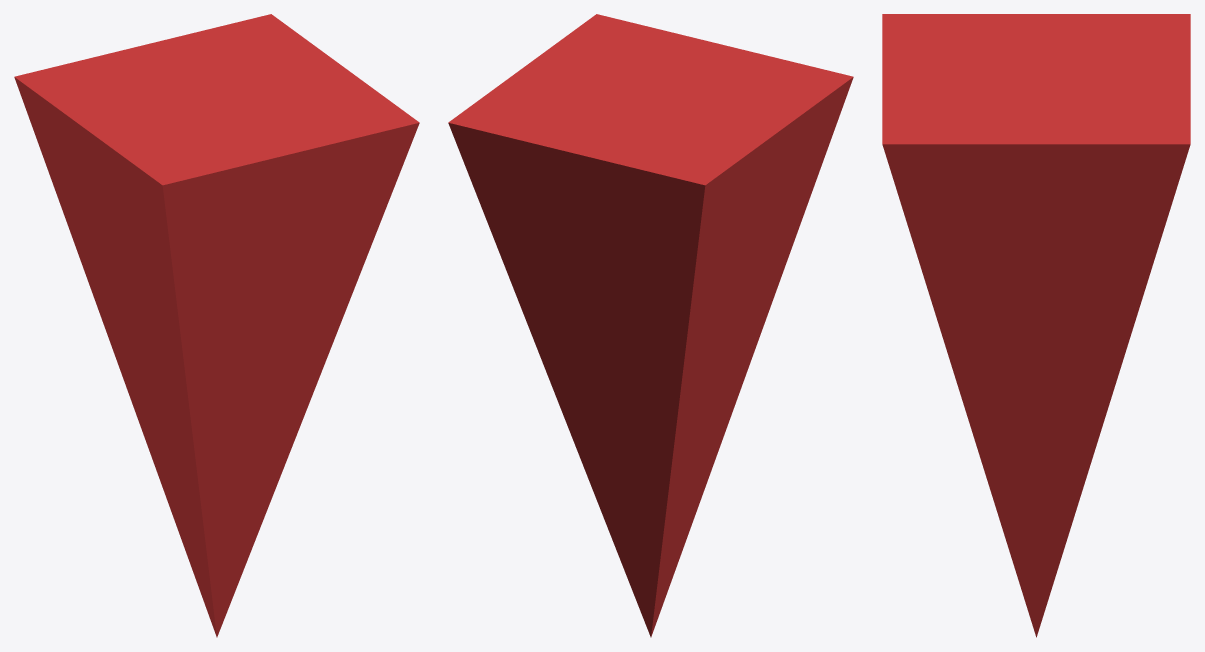
The model's file is blip.glb.
3 views of the same model, side by side, from view 1: azimuth 30°, elevation 25°; view 2: azimuth 150°, elevation 25°; view 3: azimuth 270°, elevation 25° (orthographic). The views are drawn at different scales.
Visible parts, largest first — view 1: pyramid; view 2: pyramid; view 3: pyramid.
Boxes of the visible parts, <box> form: pyramid: <box>14,14,419,637</box>; pyramid: <box>448,14,853,637</box>; pyramid: <box>882,14,1190,637</box>.
Bounding box in the file's own units: 0.25 × 0.5 × 0.25.
Materials: 1 (1 with a texture image).
